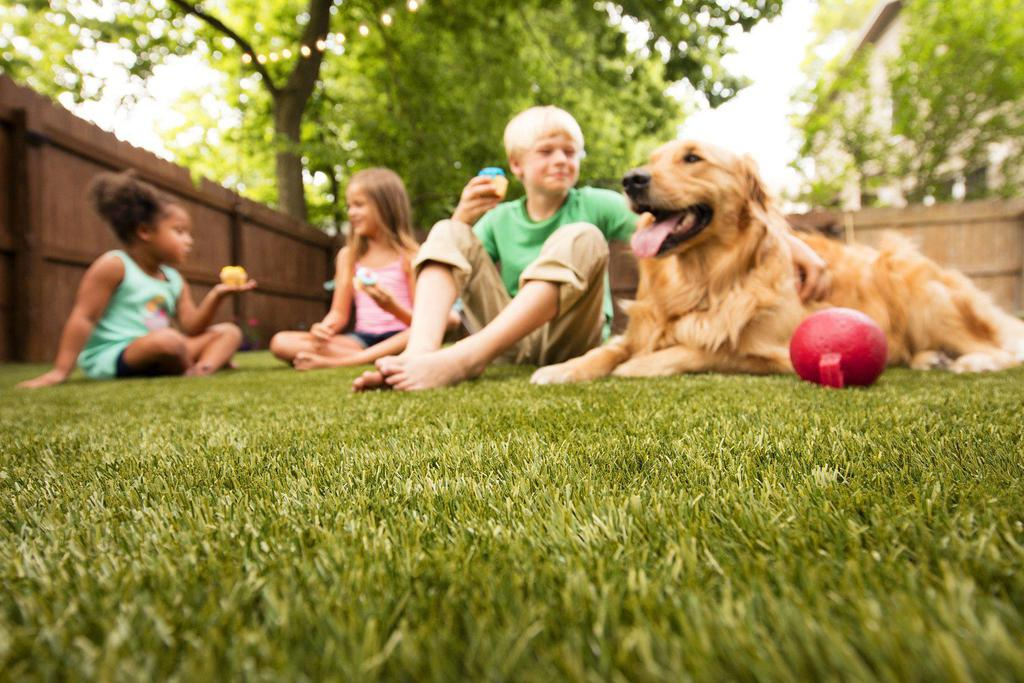child: (397, 100, 650, 402), (46, 174, 271, 399), (305, 163, 451, 387)
